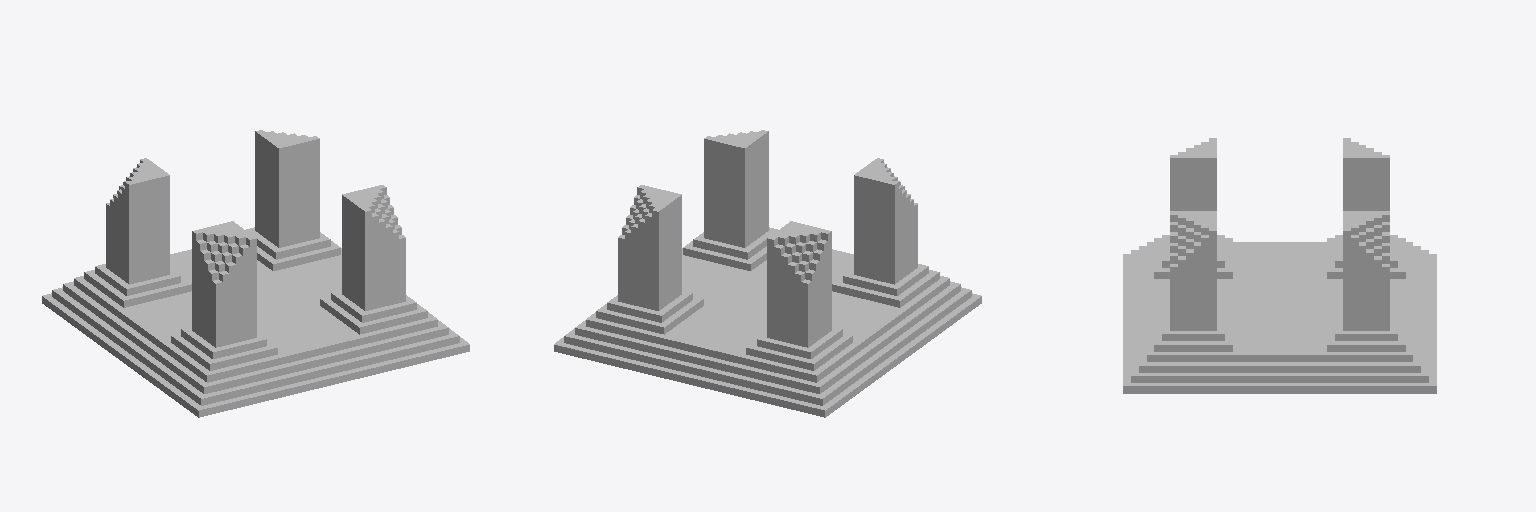
File: Level Portal.obj
3 views of the same model, side by side, from view 1: azimuth 30°, elevation 25°; view 2: azimuth 150°, elevation 25°; view 3: azimuth 270°, elevation 25° (orthographic).
Parts seen in each view (by area): view 1: object 1; view 2: object 1; view 3: object 1.
Boxes of the visible parts, <box> form: object 1: <box>42,130,469,417</box>; object 1: <box>554,130,981,417</box>; object 1: <box>1123,138,1436,393</box>.
Bounding box in the file's own units: 4 × 2 × 4.